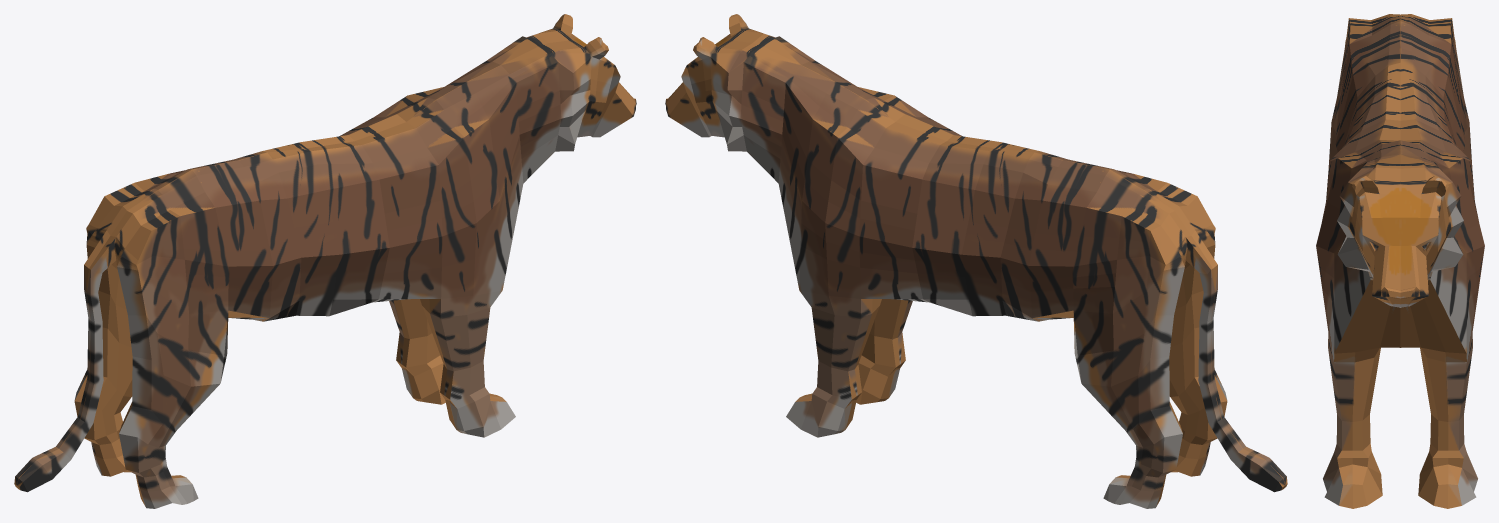
Rendered from tiger3.glb.
3 views of the same model, side by side, from view 1: azimuth 30°, elevation 25°; view 2: azimuth 150°, elevation 25°; view 3: azimuth 270°, elevation 25° (orthographic). The views are drawn at different scales.
Visible parts, largest first — view 1: Cube.004_Material.001_0; view 2: Cube.004_Material.001_0; view 3: Cube.004_Material.001_0.
Part boxes in pixels (left/top/right/bottom): Cube.004_Material.001_0: left=14, top=14, right=636, bottom=508; Cube.004_Material.001_0: left=665, top=14, right=1287, bottom=508; Cube.004_Material.001_0: left=1316, top=14, right=1484, bottom=508.
Bounding box in the file's own units: 23.61 × 13.04 × 5.14.
Materials: 1 (1 with a texture image).
